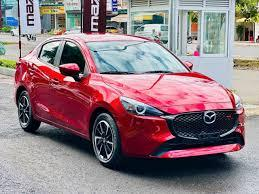mazda: (199, 104, 217, 125)
